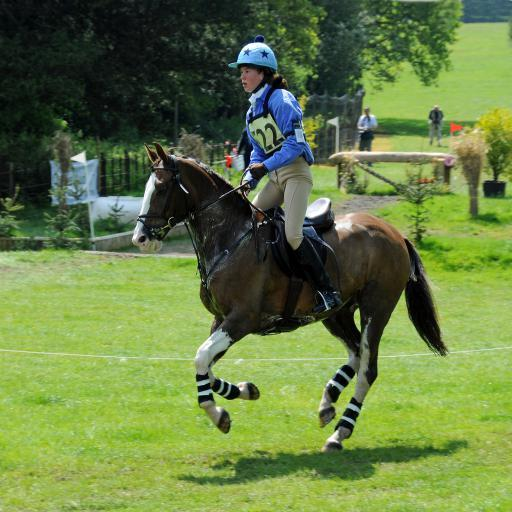horse: (128, 140, 448, 454)
